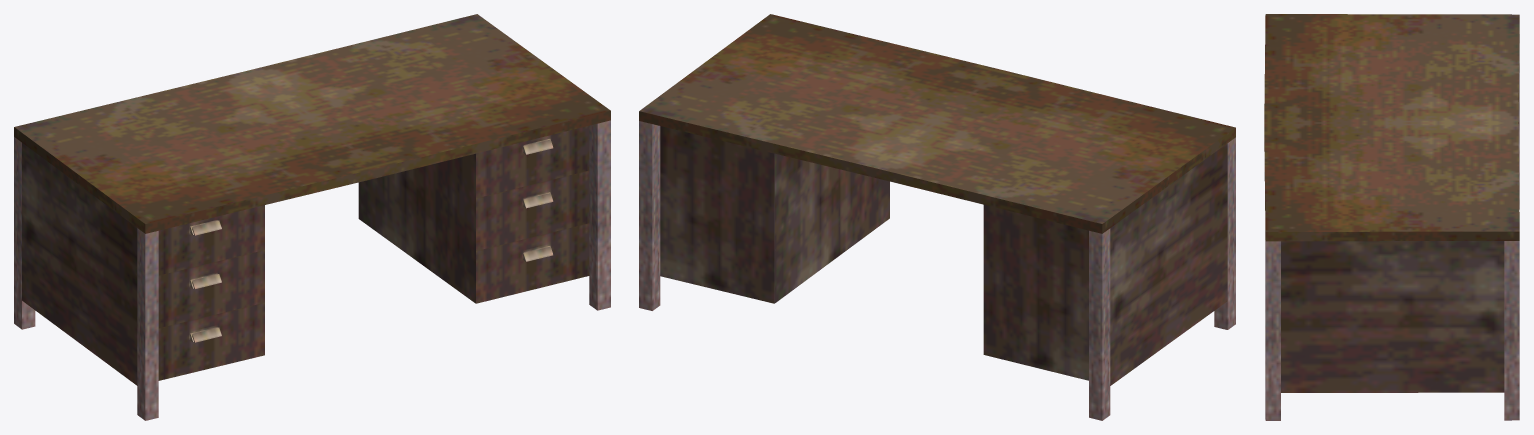
File: desk1_weathered.obj
3 views of the same model, side by side, from view 1: azimuth 30°, elevation 25°; view 2: azimuth 150°, elevation 25°; view 3: azimuth 270°, elevation 25° (orthographic). The views are drawn at different scales.
Parts seen in each view (by area): view 1: desk1_weathered; view 2: desk1_weathered; view 3: desk1_weathered.
Boxes of the visible parts, x1,y1,x2,y2 form: desk1_weathered: (14,14,610,420); desk1_weathered: (639,14,1235,420); desk1_weathered: (1264,14,1519,420).
Size of the model in its own units: 2.21 by 0.8911 by 1.09.
